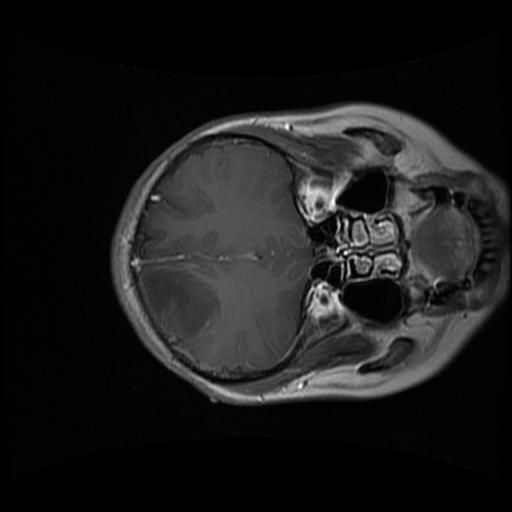glioma: (141, 258, 222, 342)
